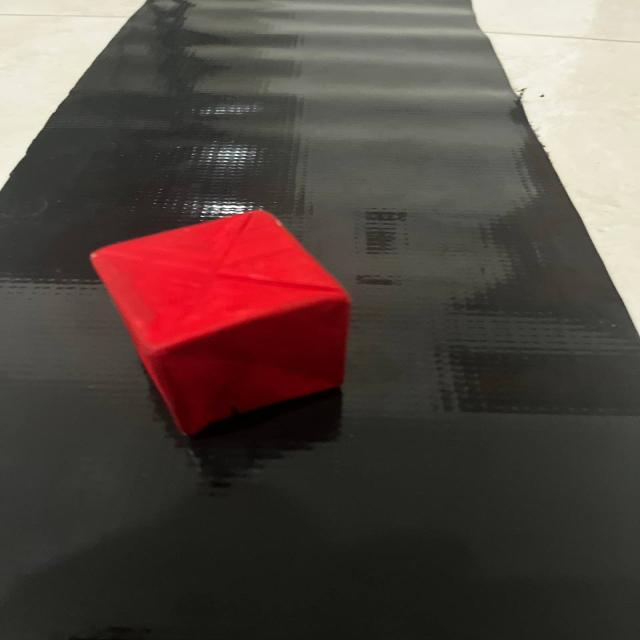Rojo: (67, 200, 374, 450)
